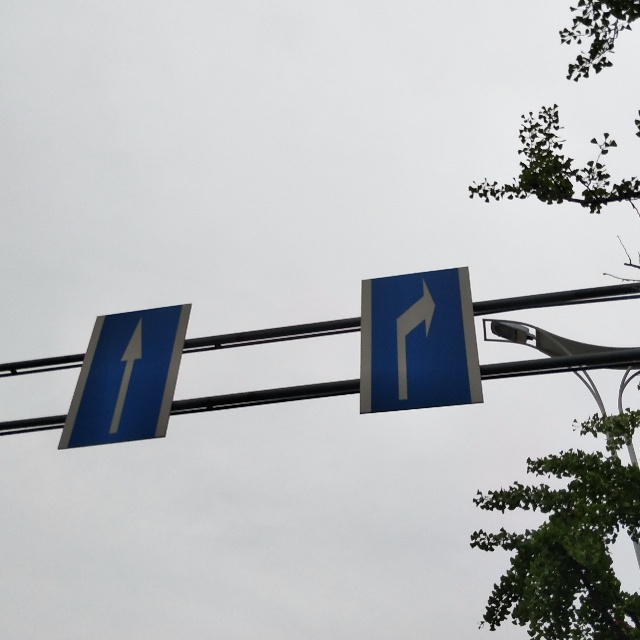right: (355, 263, 492, 420)
straight: (57, 299, 193, 459)
